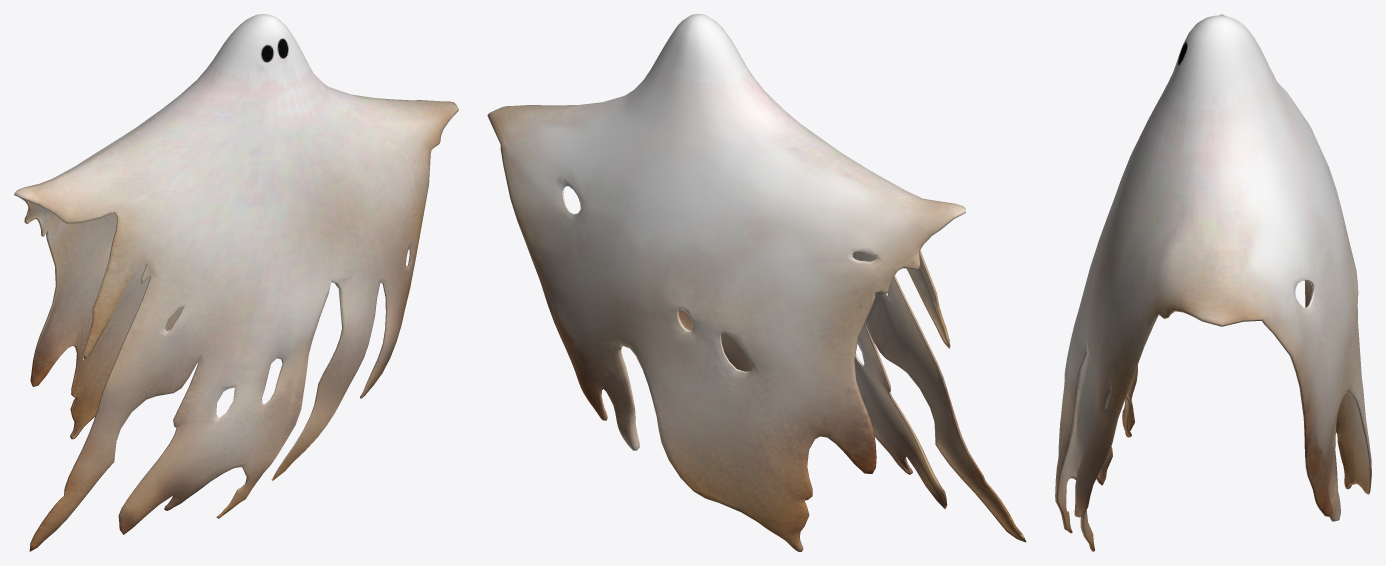
File: SPÖKE.glb
3 views of the same model, side by side, from view 1: azimuth 30°, elevation 25°; view 2: azimuth 150°, elevation 25°; view 3: azimuth 270°, elevation 25° (orthographic). The views are drawn at different scales.
Visible parts, largest first — view 1: node_id30; view 2: node_id30; view 3: node_id30.
Part boxes in pixels (x1,y1,x2,y2): node_id30: [14, 14, 458, 551]; node_id30: [487, 14, 1026, 551]; node_id30: [1055, 14, 1371, 551].
Size of the model in its own units: 0.512 by 0.4715 by 0.229.
Materials: 1 (1 with a texture image).
